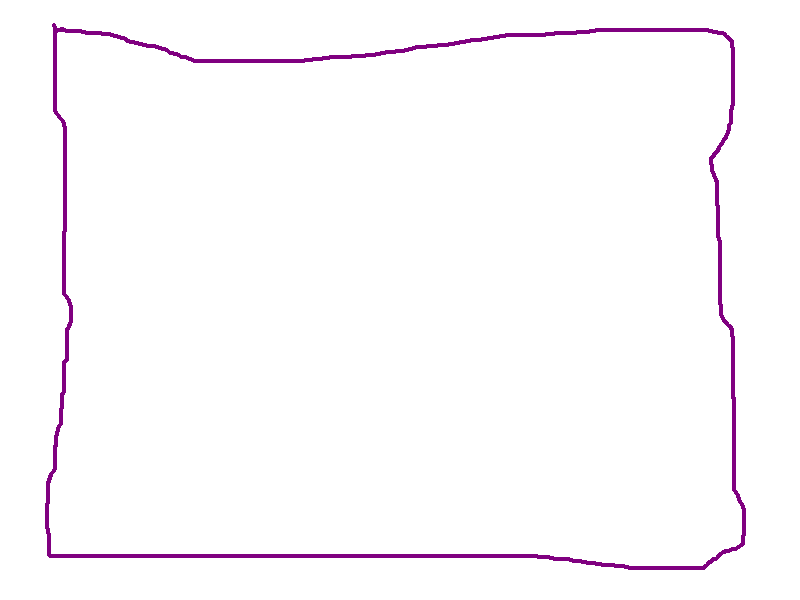rect: (38, 20, 751, 575)
